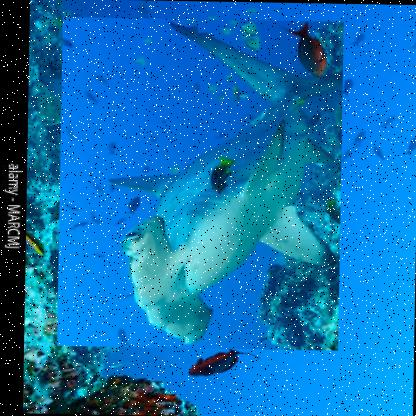hammerhead_Shark: (56, 15, 344, 350)
